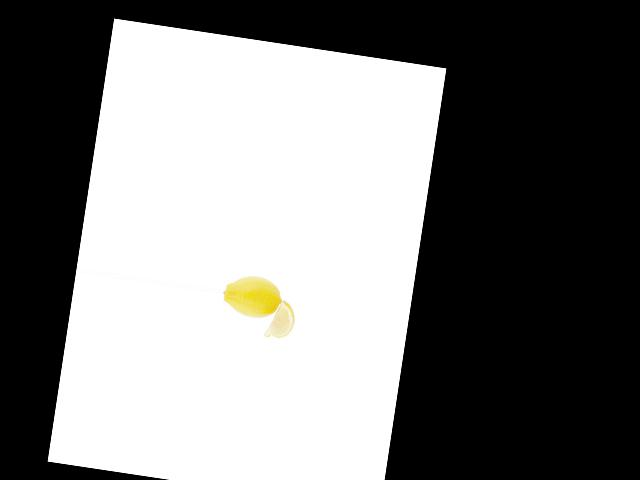lemon: (219, 269, 287, 324)
